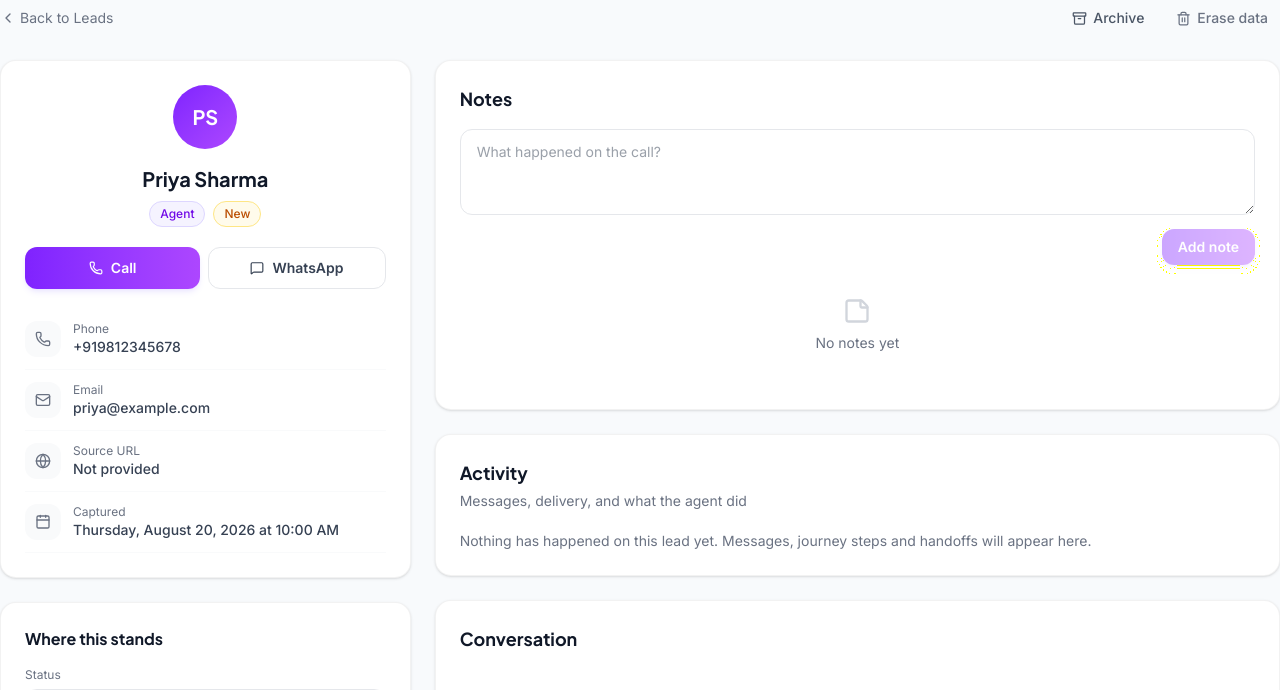
Test: erasing a lead › does not erase on the first click — it opens a confirmation
Check: the heading "Priya Sharma" is shown, box top-left (142, 166), bottom-right (268, 191)
Click the button "Erase data" at (1222, 18), box top-left (1164, 0), bottom-right (1279, 36)
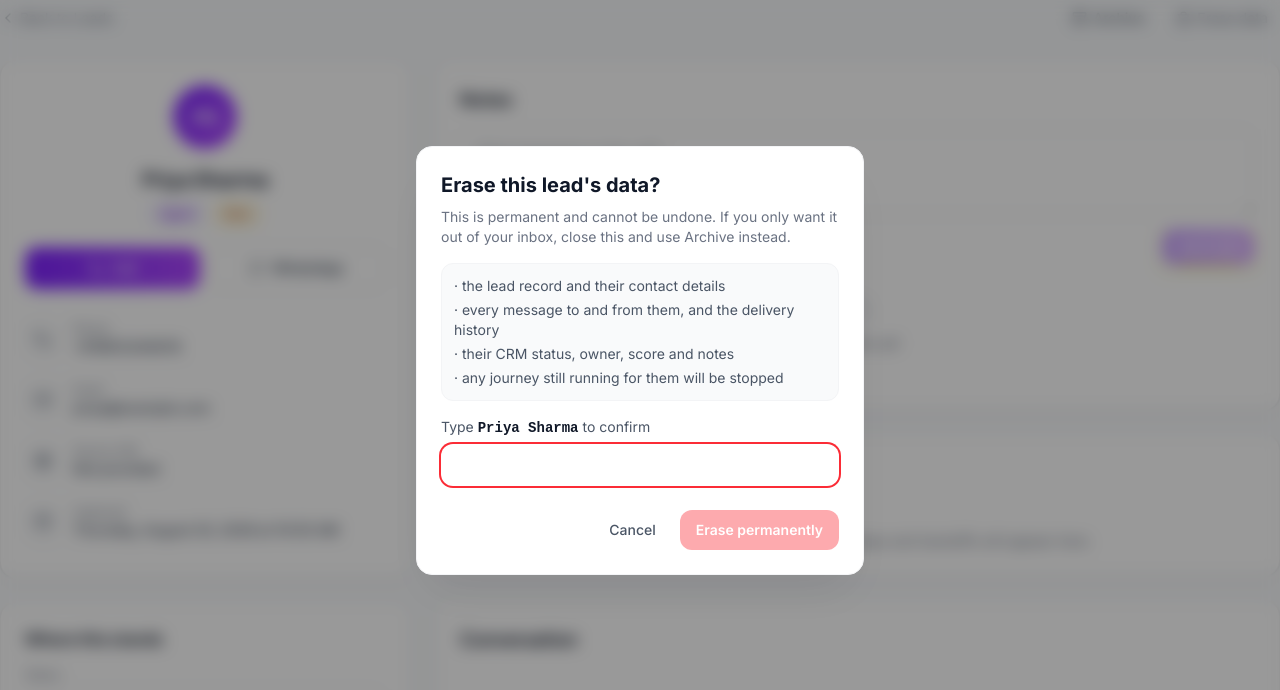
Check: the heading "Erase this lead's data?" is shown, box top-left (441, 172), bottom-right (660, 196)
